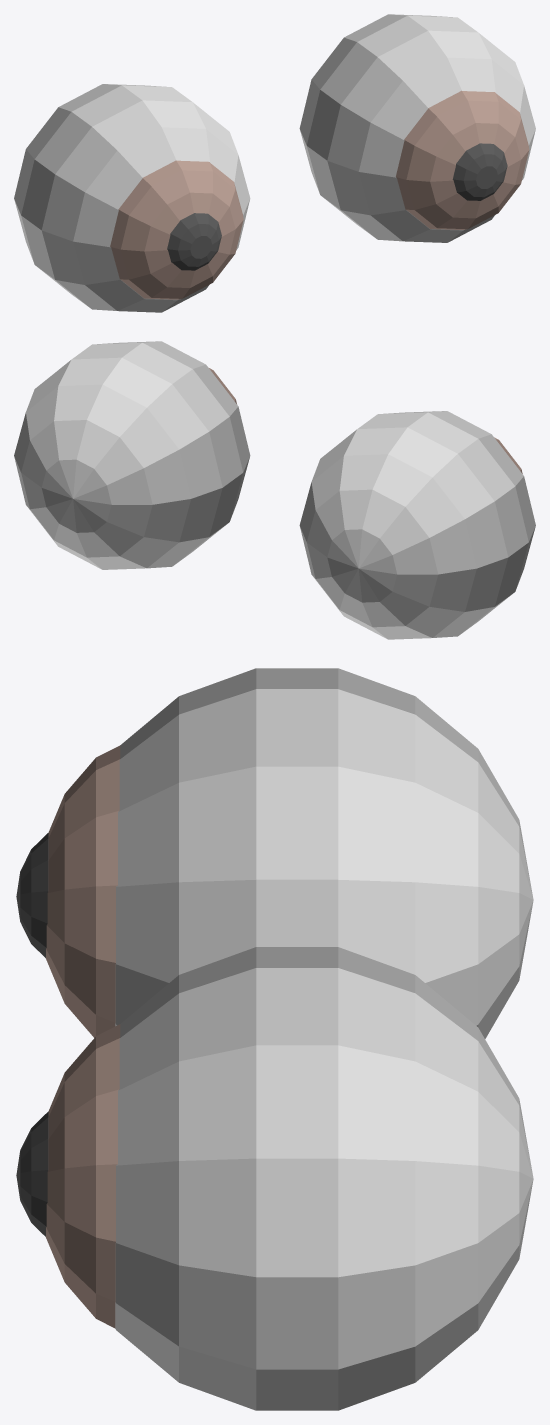
File: two-eyes.dae
3 views of the same model, one above another, from view 1: azimuth 30°, elevation 25°; view 2: azimuth 150°, elevation 25°; view 3: azimuth 270°, elevation 25° (orthographic). The views are drawn at different scales.
Parts seen in each view (by area): view 1: mesh114125578_002, mesh114125578_000, mesh1137138639_002, mesh1137138639_000, mesh293631975_002, mesh293631975_000; view 2: mesh114125578_002, mesh114125578_000; view 3: mesh114125578_000, mesh114125578_002, mesh1137138639_000, mesh1137138639_002, mesh293631975_002, mesh293631975_000.
Boxes of the visible parts, x1,y1,x2,y2 form: mesh114125578_002: (14, 84, 250, 312); mesh114125578_000: (299, 14, 535, 242); mesh1137138639_002: (110, 160, 243, 299); mesh1137138639_000: (396, 90, 529, 229); mesh293631975_002: (167, 213, 221, 270); mesh293631975_000: (452, 143, 507, 200); mesh114125578_002: (299, 411, 535, 639); mesh114125578_000: (14, 341, 250, 569); mesh114125578_000: (115, 947, 533, 1410); mesh114125578_002: (115, 668, 533, 1038); mesh1137138639_000: (46, 1024, 120, 1328); mesh1137138639_002: (46, 745, 120, 1037); mesh293631975_002: (16, 833, 48, 957); mesh293631975_000: (16, 1111, 48, 1236).
Size of the model in its own units: 0.3808 by 0.1751 by 0.1576.
